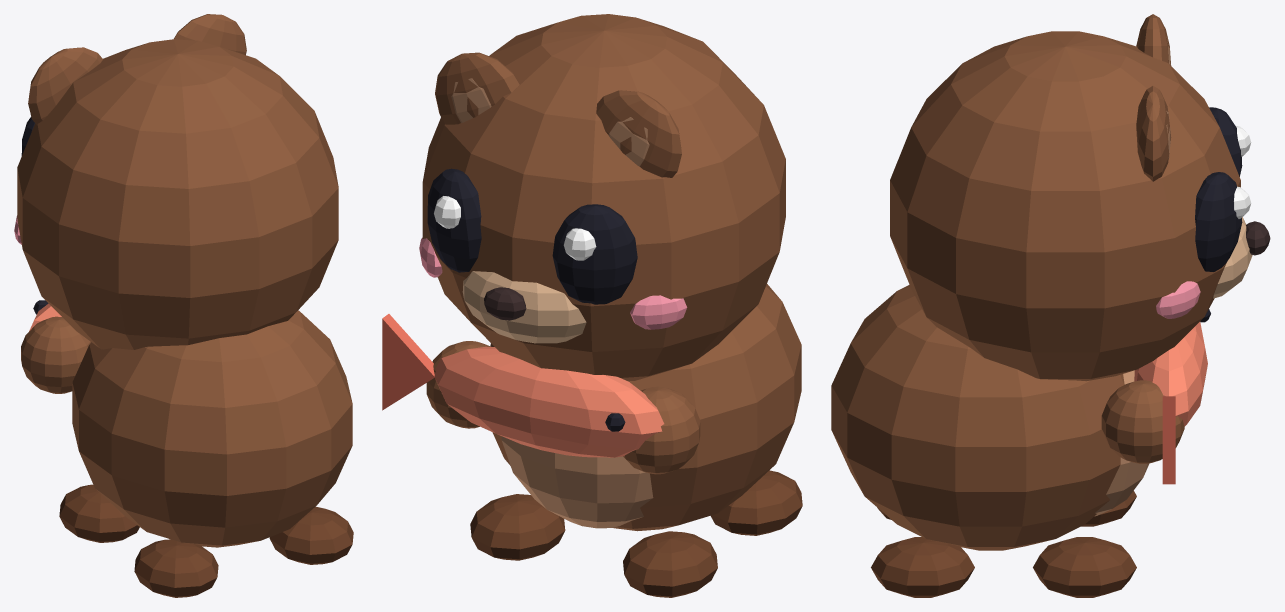
File: SalmonBear.fbx
3 renders of one model, left to right at view 1: azimuth 30°, elevation 25°; view 2: azimuth 150°, elevation 25°; view 3: azimuth 270°, elevation 25°, orthographic. The views are drawn at different scales.
Visible parts, largest first — view 1: Pet_8D5A3B, Pet_6E4229; view 2: Pet_8D5A3B, Pet_FA8A6E, Pet_6E4229, Pet_1E1E2A, Pet_C99470, Pet_D9B08C, Pet_E8705A, Pet_FF9AAE, Pet_FFFFFF, Pet_3A2A2A; view 3: Pet_8D5A3B, Pet_6E4229, Pet_1E1E2A, Pet_FA8A6E, Pet_C99470, Pet_E8705A, Pet_D9B08C, Pet_FF9AAE, Pet_FFFFFF, Pet_3A2A2A.
Part boxes in pixels (x1=…): Pet_8D5A3B: x1=17, y1=14, x2=352, y2=547; Pet_6E4229: x1=59, y1=484, x2=353, y2=597; Pet_8D5A3B: x1=422, y1=14, x2=801, y2=531; Pet_FA8A6E: x1=434, y1=346, x2=664, y2=457; Pet_6E4229: x1=470, y1=470, x2=802, y2=597; Pet_1E1E2A: x1=427, y1=168, x2=637, y2=431; Pet_C99470: x1=451, y1=78, x2=653, y2=528; Pet_D9B08C: x1=462, y1=271, x2=586, y2=343; Pet_E8705A: x1=382, y1=314, x2=434, y2=410; Pet_FF9AAE: x1=419, y1=237, x2=687, y2=329; Pet_FFFFFF: x1=434, y1=196, x2=596, y2=260; Pet_3A2A2A: x1=484, y1=287, x2=526, y2=320; Pet_8D5A3B: x1=831, y1=14, x2=1240, y2=550; Pet_6E4229: x1=871, y1=490, x2=1136, y2=597; Pet_1E1E2A: x1=1195, y1=107, x2=1242, y2=322; Pet_FA8A6E: x1=1134, y1=321, x2=1207, y2=426; Pet_C99470: x1=1094, y1=37, x2=1170, y2=516; Pet_E8705A: x1=1162, y1=396, x2=1175, y2=484; Pet_D9B08C: x1=1213, y1=217, x2=1252, y2=298; Pet_FF9AAE: x1=1156, y1=281, x2=1200, y2=318; Pet_FFFFFF: x1=1234, y1=125, x2=1251, y2=218; Pet_3A2A2A: x1=1246, y1=221, x2=1270, y2=255.
Size of the model in its own units: 1.09 by 1.74 by 1.36.
